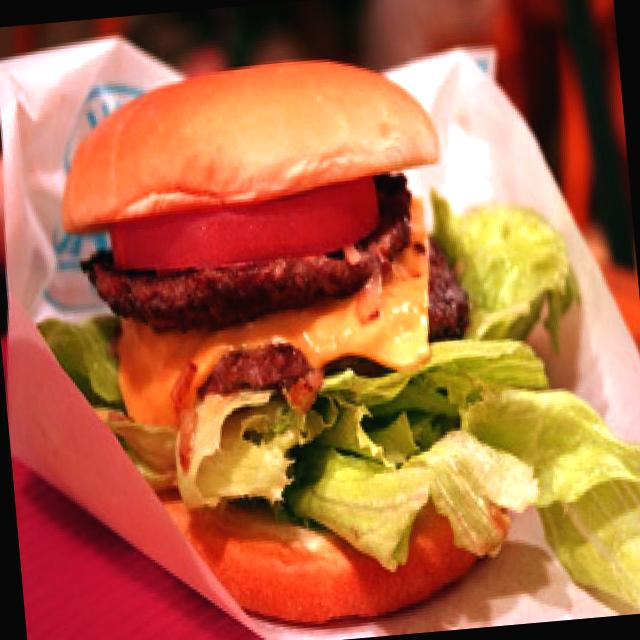Hamburger: (28, 0, 616, 640)
